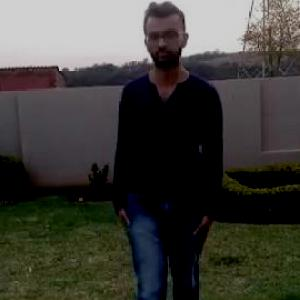follow: (101, 0, 229, 299)
